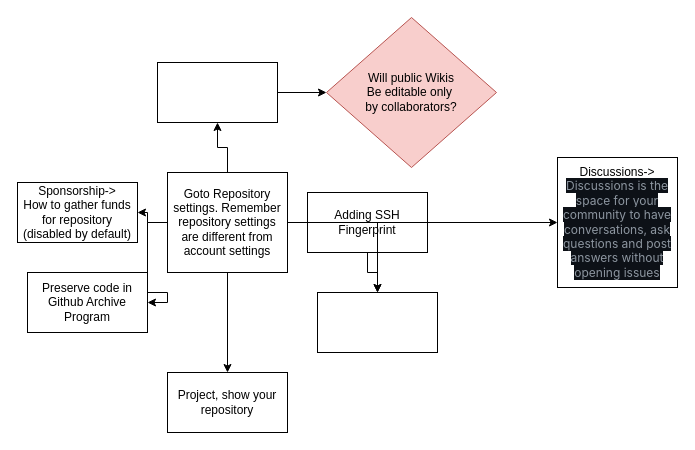
The diagram is 695 pixels wide and 450 high, and some of its shapes have lost their labels. The centre of each missing label's shape, as x and y in pixels:
"Open Security" goes at (x=377, y=322).
"Wikis -> Allow documentation for repository" goes at (x=217, y=92).
